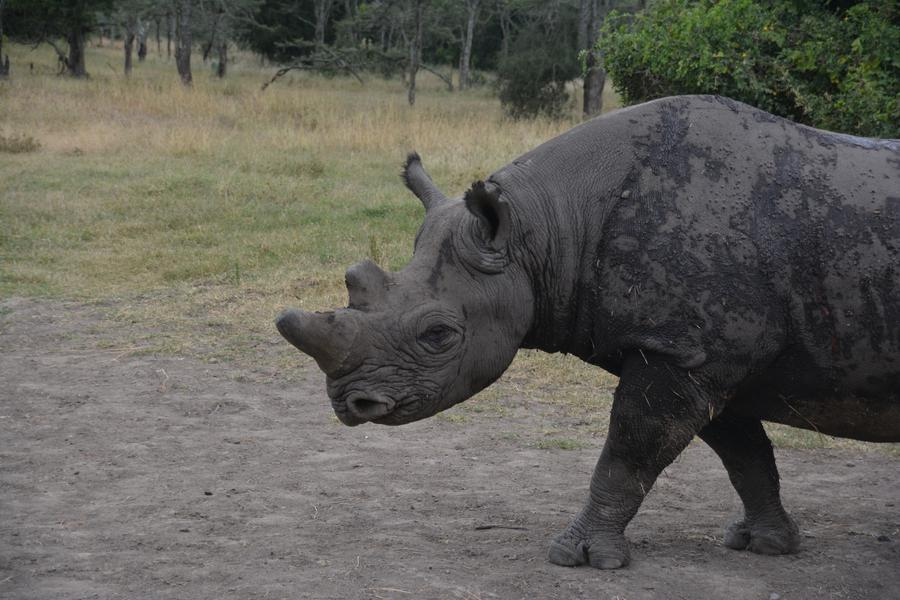rhino: (319, 82, 889, 551)
